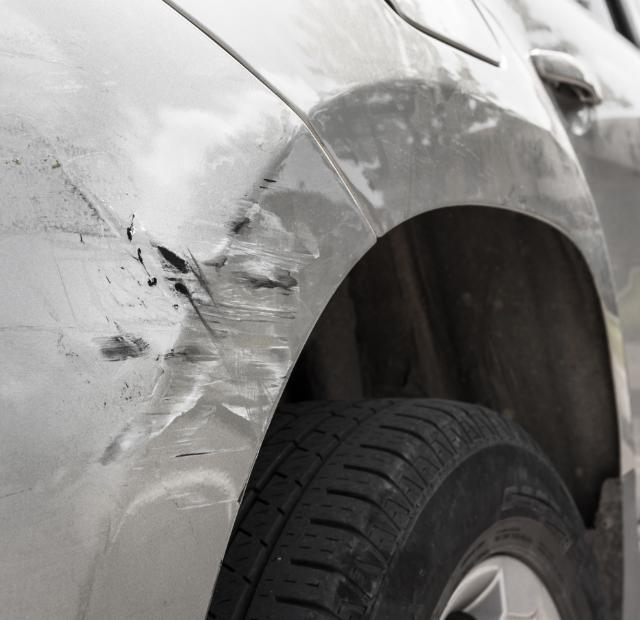Fender: (5, 100, 329, 587)
